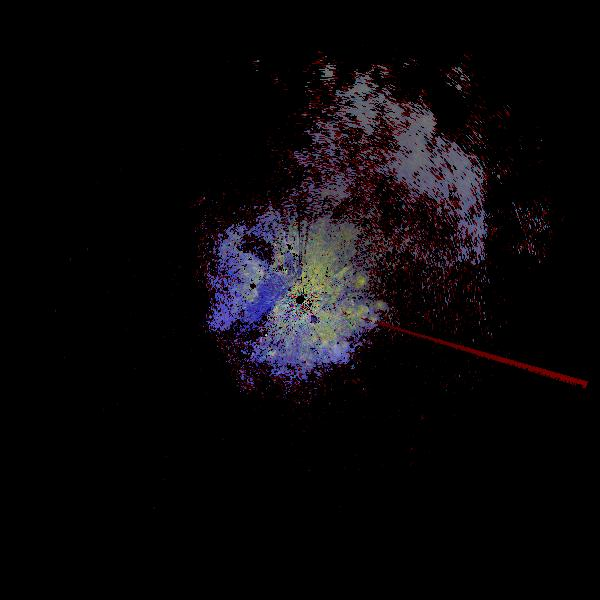roost: (300, 314, 354, 368)
